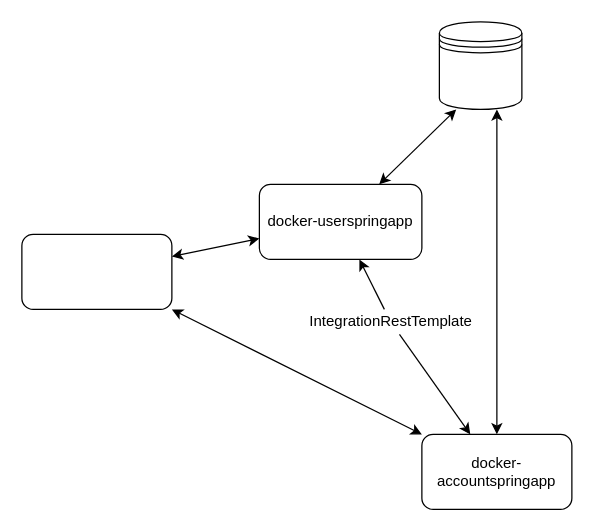
Image size: 594x531. Some labels were removed from this diagram. Each missing label, with the centre of its shape:
"Client" belongs at (96,271).
"docker-dbapp" belongs at (480,65).
